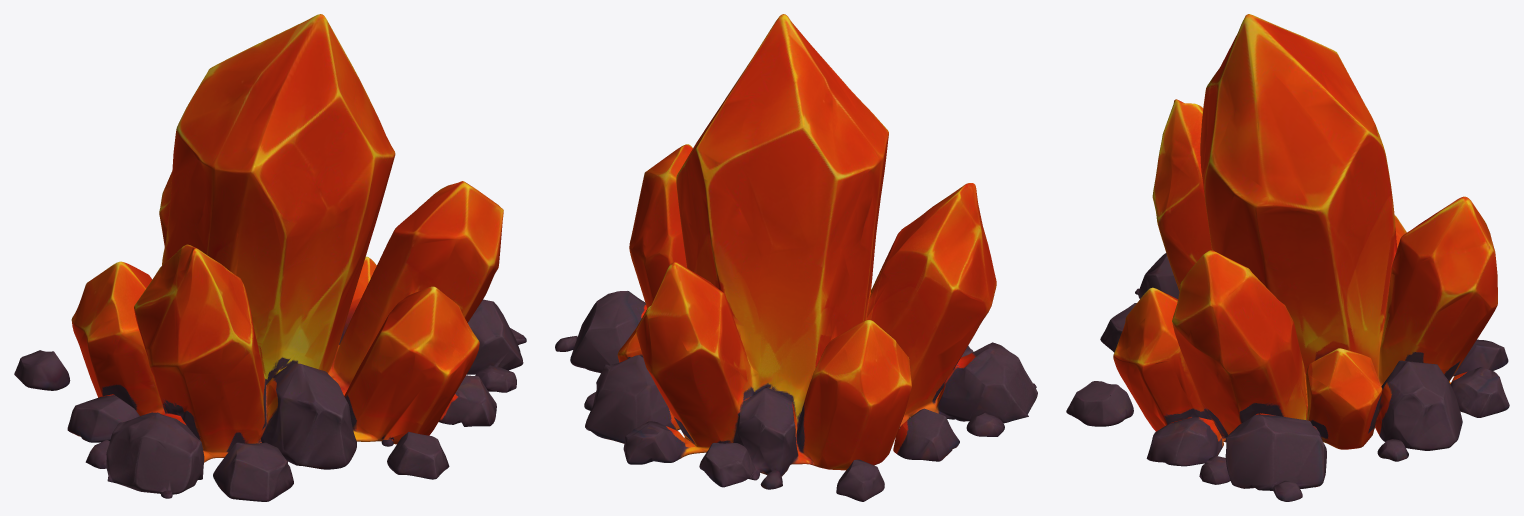
Rendered from grupo_de_cristales_naranjas.glb.
3 renders of one model, left to right at view 1: azimuth 30°, elevation 25°; view 2: azimuth 150°, elevation 25°; view 3: azimuth 270°, elevation 25°, orthographic. The views are drawn at different scales.
Visible parts, largest first — view 1: grupo_de_cristales_naranjas; view 2: grupo_de_cristales_naranjas; view 3: grupo_de_cristales_naranjas.
Part boxes in pixels (x1,y1,x2,y2): grupo_de_cristales_naranjas: (14, 14, 526, 501); grupo_de_cristales_naranjas: (555, 14, 1037, 501); grupo_de_cristales_naranjas: (1066, 14, 1509, 501).
Size of what is drawn, in the model's own units: 1.44 by 1.2 by 1.23.
Materials: 1 (1 with a texture image).
